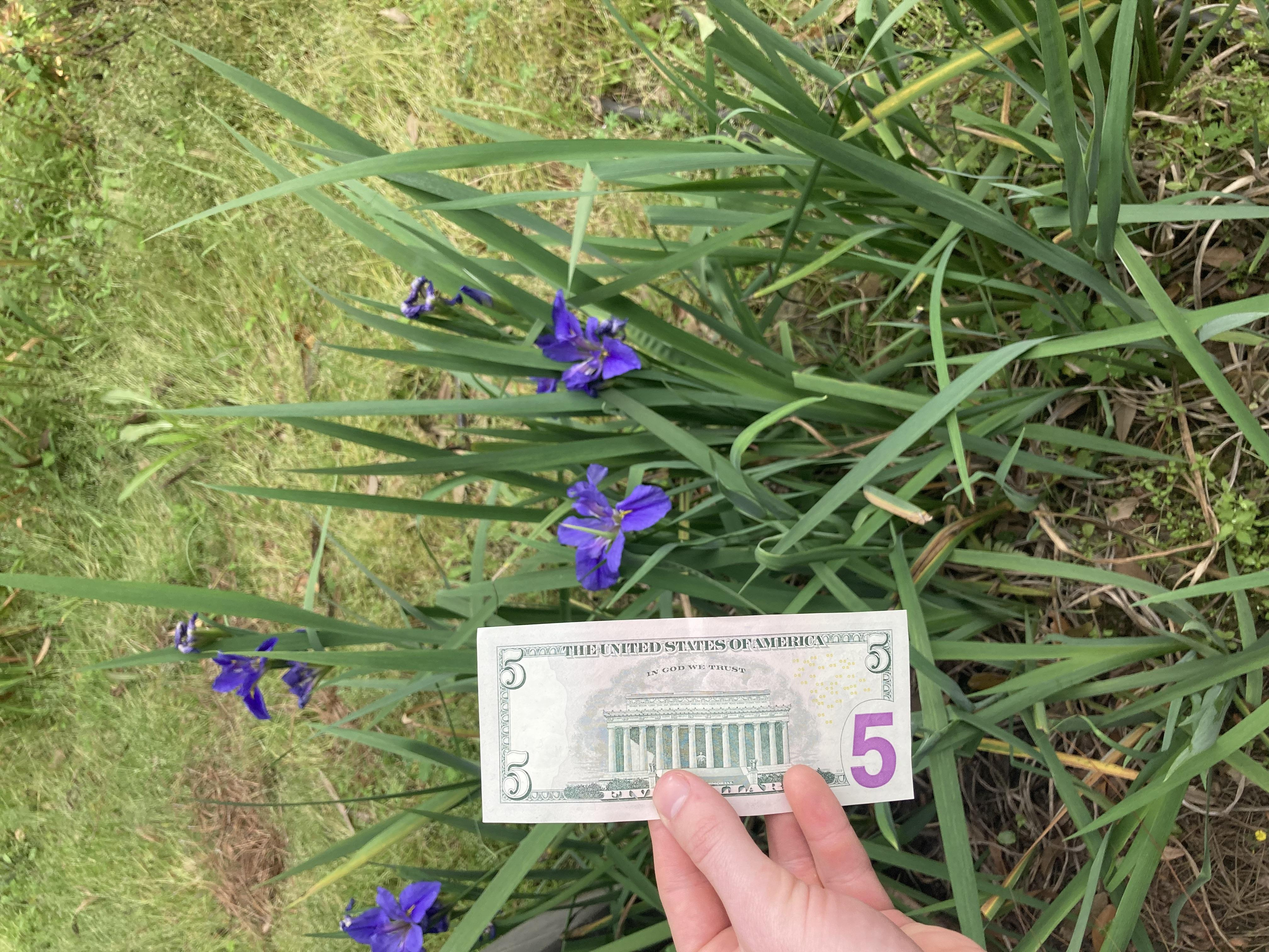five-back: (172, 356, 460, 687)
